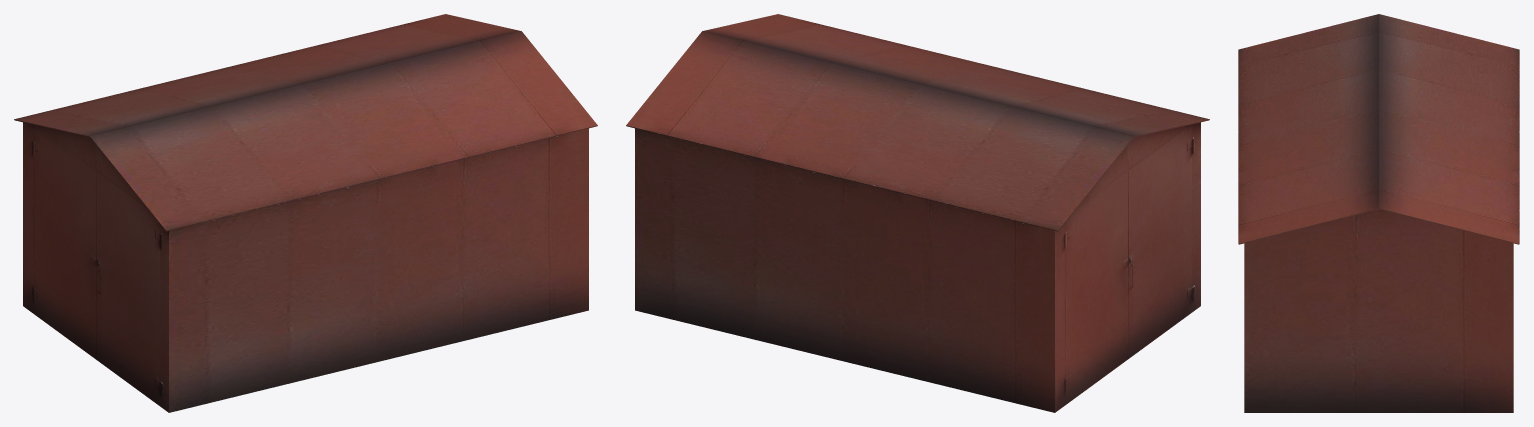
Rendered from sibir_garaz1.FBX.
The picture shows the model from 3 angles, left to right: view 1: azimuth 30°, elevation 25°; view 2: azimuth 150°, elevation 25°; view 3: azimuth 270°, elevation 25°; orthographic projection. The views are drawn at different scales.
Parts seen in each view (by area): view 1: sibir_garaz1; view 2: sibir_garaz1; view 3: sibir_garaz1.
Part boxes in pixels (<box>): sibir_garaz1: <box>14,14,597,412</box>; sibir_garaz1: <box>626,14,1209,412</box>; sibir_garaz1: <box>1238,14,1519,412</box>.
Bounding box in the file's own units: 475 × 290 × 236.
